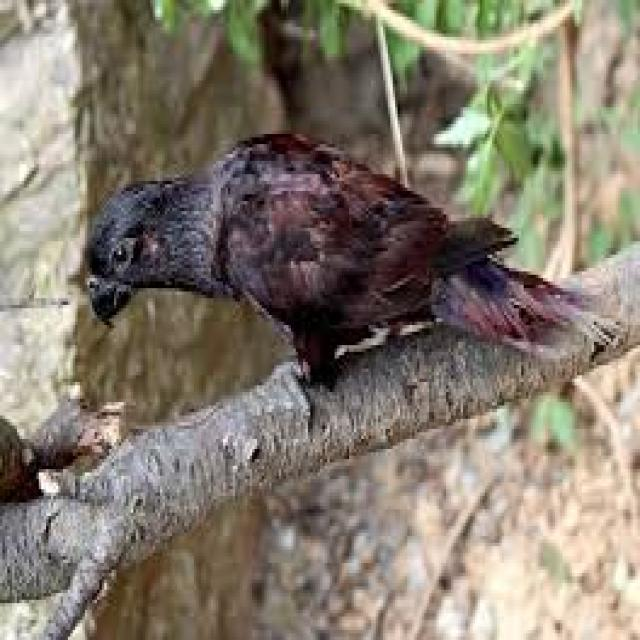Nuri Hitam: (68, 119, 621, 442)
